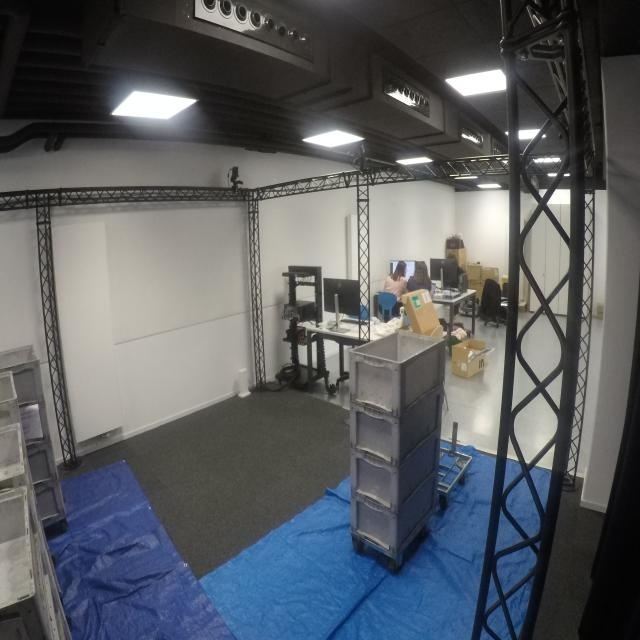Box4G: (344, 382, 446, 470), (346, 469, 442, 560), (347, 330, 447, 414), (347, 428, 443, 514)
